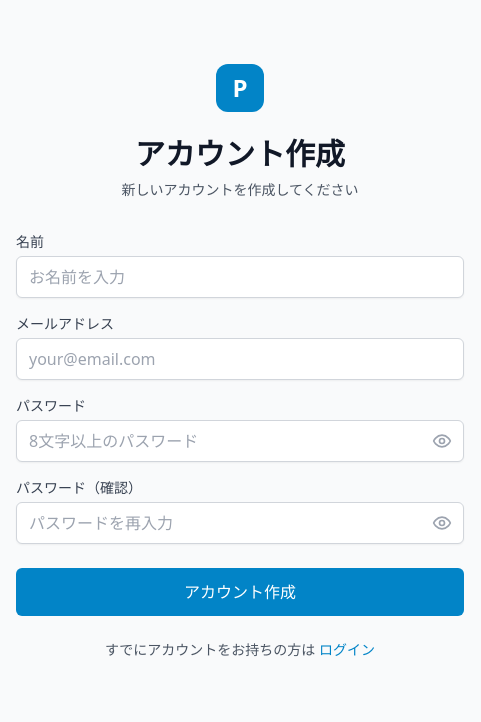
Authentication › RegisterPage › validates password strength
In the password field labelled "パスワード": coordinates (240, 441) [16, 420, 464, 462], type "123"
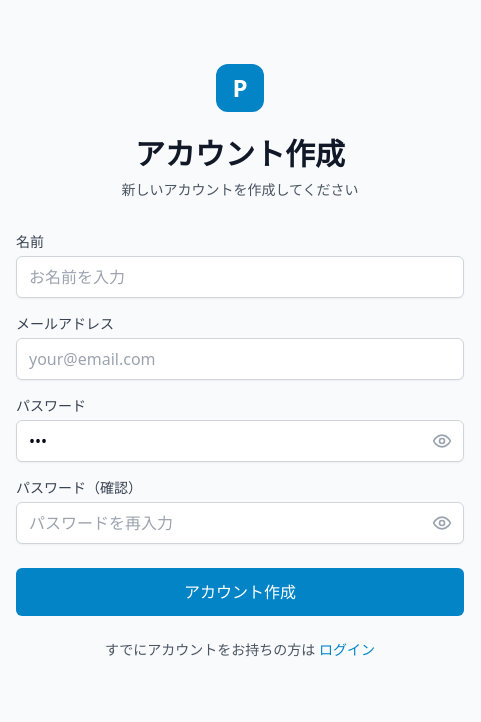
Click the button "アカウント作成": coordinates (240, 592) [16, 568, 464, 616]
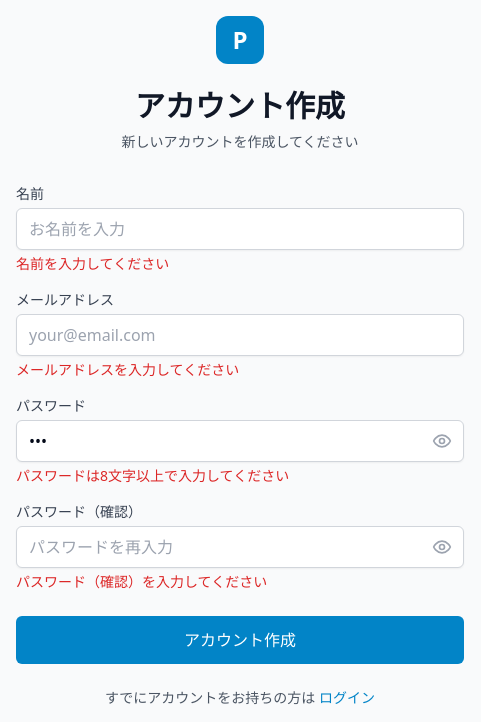
expect the text "パスワードは8文字以上で入力してください" is shown: met, box [16, 466, 289, 485]
